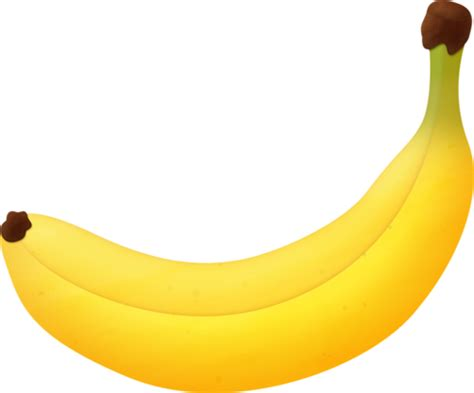banana: (1, 85, 474, 393)
